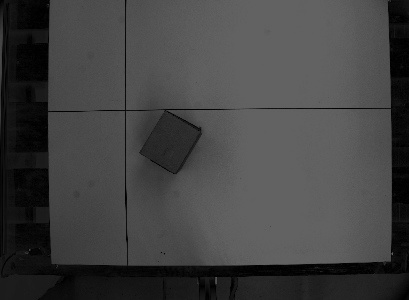b5: (136, 109, 204, 177)
